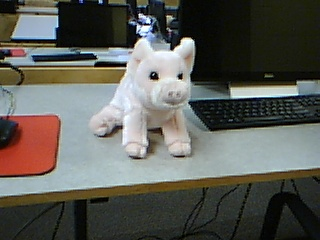piggy: (89, 35, 198, 161)
